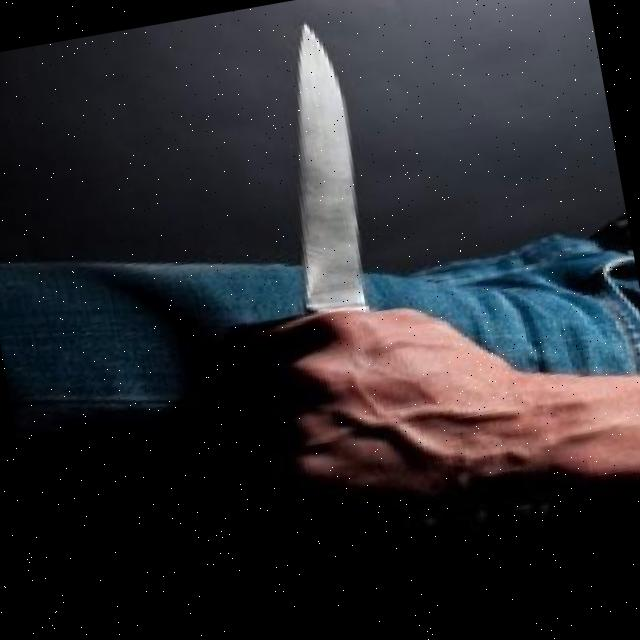Knife: (222, 9, 446, 546)
